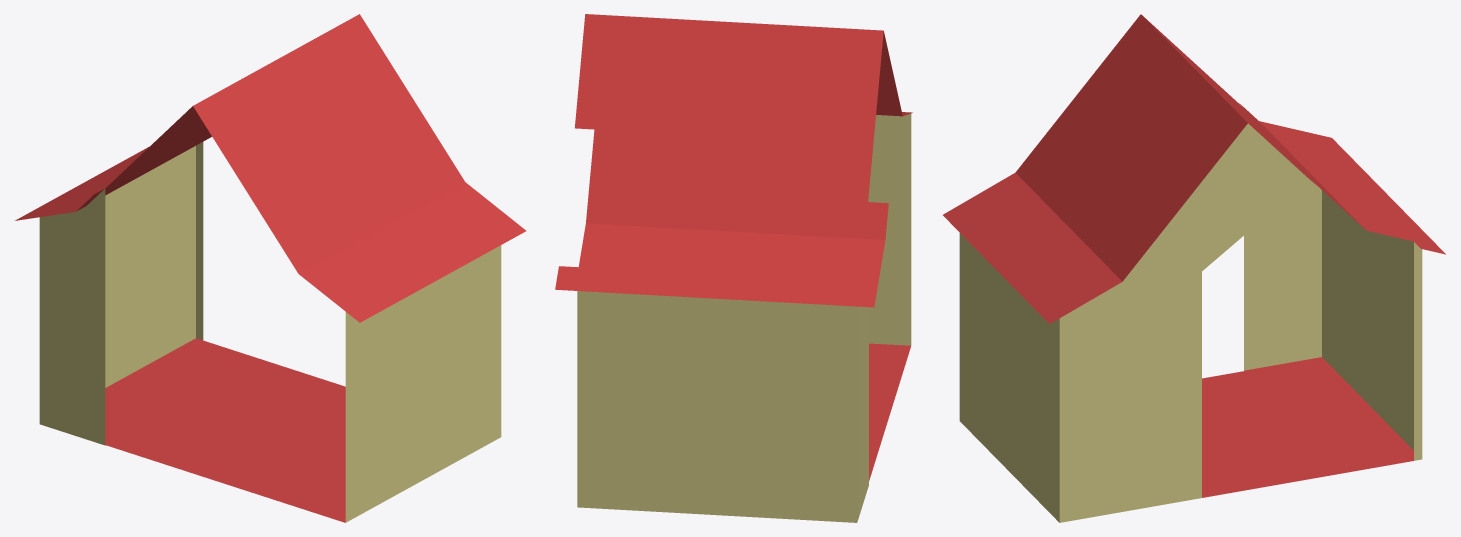
3 views of the same model, side by side, from view 1: azimuth 30°, elevation 25°; view 2: azimuth 150°, elevation 25°; view 3: azimuth 270°, elevation 25° (orthographic). The views are drawn at different scales.
Size of the model in its own units: 11.93 by 13.64 by 11.21.
